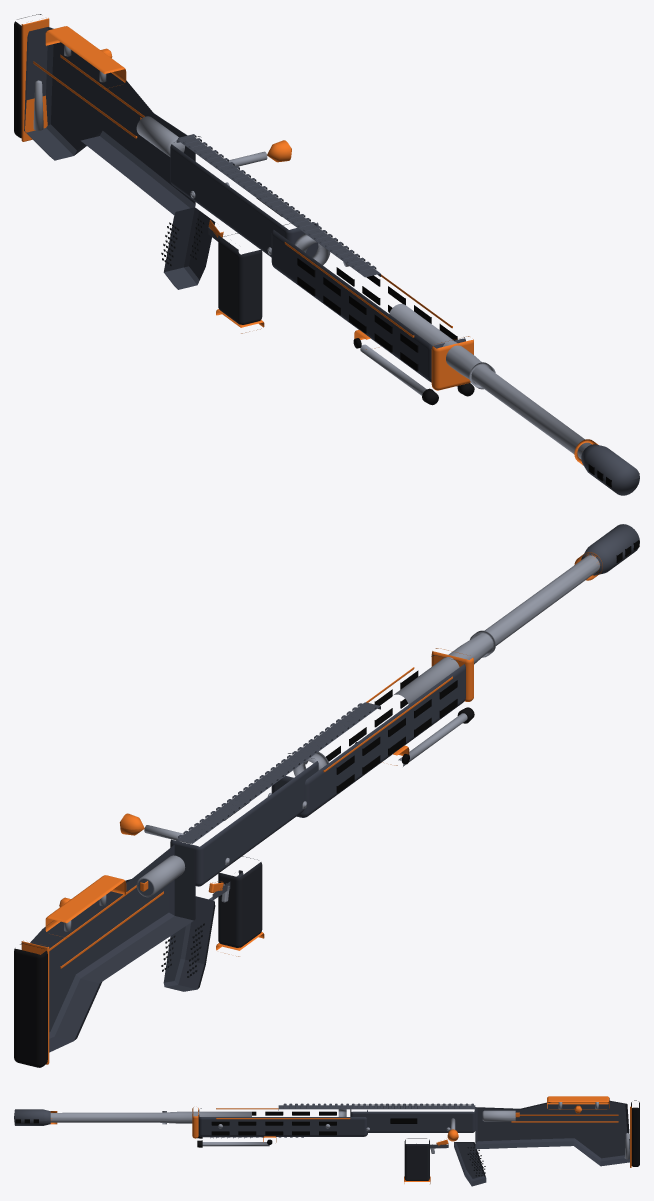
File: Sniper_LR7_Bare.glb
3 renders of one model, top to bottom at view 1: azimuth 30°, elevation 25°; view 2: azimuth 150°, elevation 25°; view 3: azimuth 270°, elevation 25°, orthographic. The views are drawn at different scales.
Visible parts, largest first — view 1: Stock, Forend, Action, Barrel, Rail, Magazine, PistolGrip, MLOK, MuzzleBrake, CheekRiser, PadSpacer, ForendCap (+3 smaller); view 2: Stock, Action, Forend, Barrel, ButtPad, Rail, Magazine, PistolGrip, MLOK, CheekRiser, MuzzleBrake, BoltShroud; view 3: Stock, Forend, Action, Barrel, MLOK, Rail, Magazine, PistolGrip, CheekRiser, MuzzleBrake, ButtPad, BoltShroud (+6 smaller).
Boxes of the visible parts, left/top/right/bottom form: Stock: left=24, top=27, right=195, bottom=215; Forend: left=271, top=223, right=465, bottom=382; Action: left=170, top=136, right=318, bottom=257; Barrel: left=389, top=304, right=591, bottom=459; Rail: left=176, top=134, right=380, bottom=277; Magazine: left=218, top=233, right=262, bottom=324; PistolGrip: left=163, top=207, right=215, bottom=289; MLOK: left=297, top=258, right=457, bottom=371; MuzzleBrake: left=581, top=444, right=639, bottom=495; CheekRiser: left=45, top=26, right=126, bottom=88; PadSpacer: left=21, top=18, right=49, bottom=141; ForendCap: left=431, top=336, right=473, bottom=390; Stock: left=30, top=844, right=195, bottom=1052; Action: left=170, top=753, right=318, bottom=886; Forend: left=271, top=655, right=465, bottom=817; Barrel: left=394, top=555, right=599, bottom=704; ButtPad: left=14, top=943, right=47, bottom=1067; Rail: left=176, top=702, right=380, bottom=843; Magazine: left=218, top=856, right=262, bottom=947; PistolGrip: left=163, top=896, right=215, bottom=991; MLOK: left=326, top=670, right=457, bottom=793; CheekRiser: left=45, top=875, right=126, bottom=937; MuzzleBrake: left=581, top=524, right=639, bottom=575; BoltShroud: left=136, top=855, right=185, bottom=897; Stock: left=475, top=1100, right=629, bottom=1166; Forend: left=198, top=1108, right=367, bottom=1136; Action: left=350, top=1104, right=475, bottom=1132; Barrel: left=50, top=1111, right=251, bottom=1123; MLOK: left=211, top=1111, right=336, bottom=1135; Rail: left=278, top=1103, right=475, bottom=1110; Magazine: left=404, top=1138, right=429, bottom=1180; PistolGrip: left=454, top=1142, right=486, bottom=1186; CheekRiser: left=547, top=1096, right=609, bottom=1109; MuzzleBrake: left=14, top=1109, right=50, bottom=1125; ButtPad: left=631, top=1100, right=639, bottom=1166; BoltShroud: left=482, top=1110, right=515, bottom=1121.
Bounding box in the file's own units: 0.1505 × 0.211 × 1.4.
